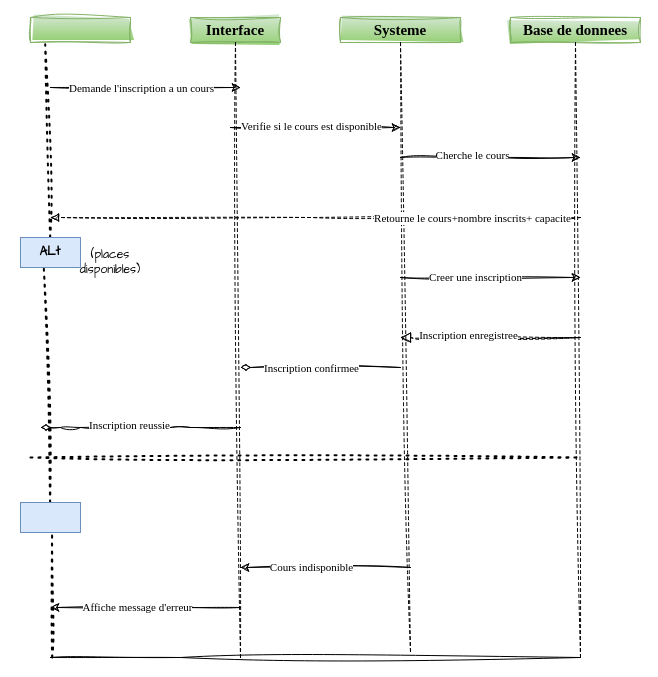
This 658x677 diagram has some shape labels left out. Each missing label, with the centre of its shape:
(sinon;cours indisponible): point (50, 517)
Adherent: point (80, 29)
